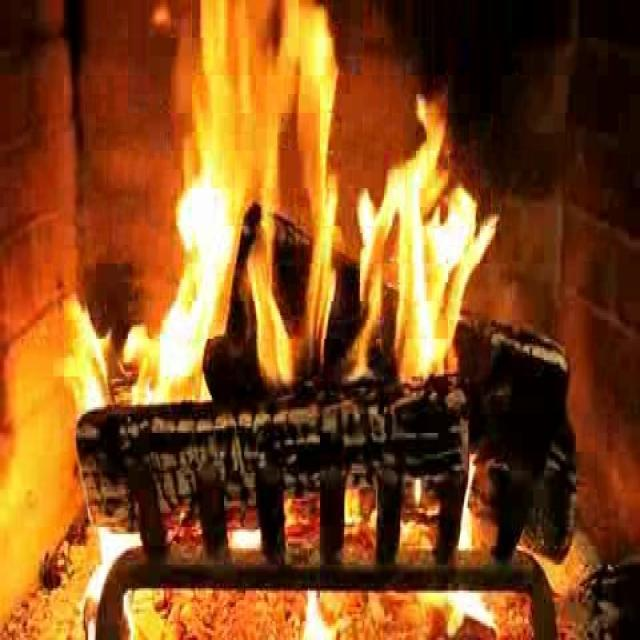Smoke: (162, 11, 474, 396)
